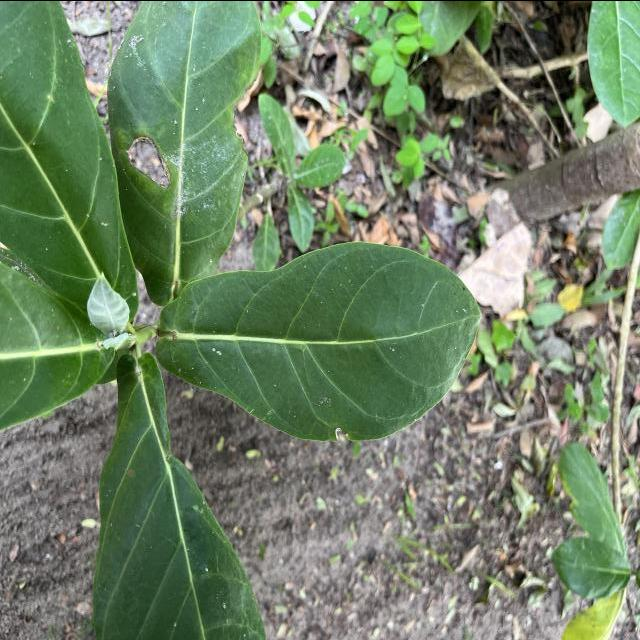Calotropis gigantea: (153, 241, 484, 443), (89, 353, 270, 640), (104, 1, 264, 312), (0, 1, 141, 330)
